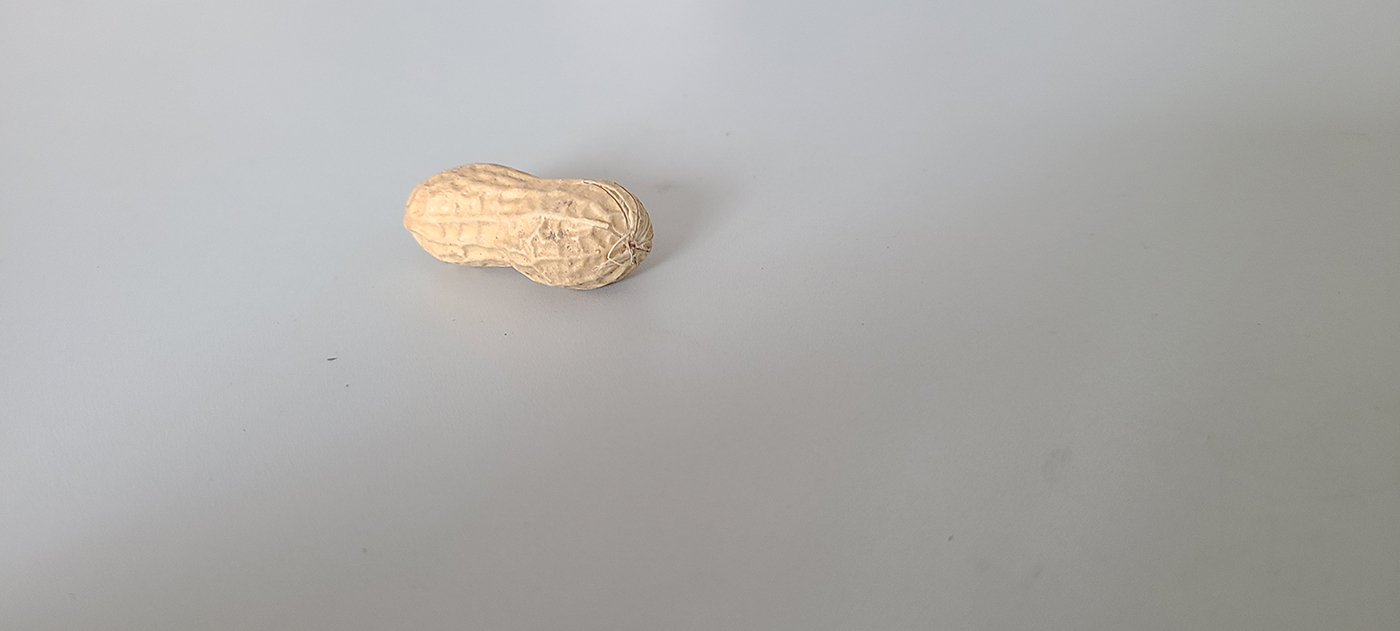h: (402, 163, 656, 289)
